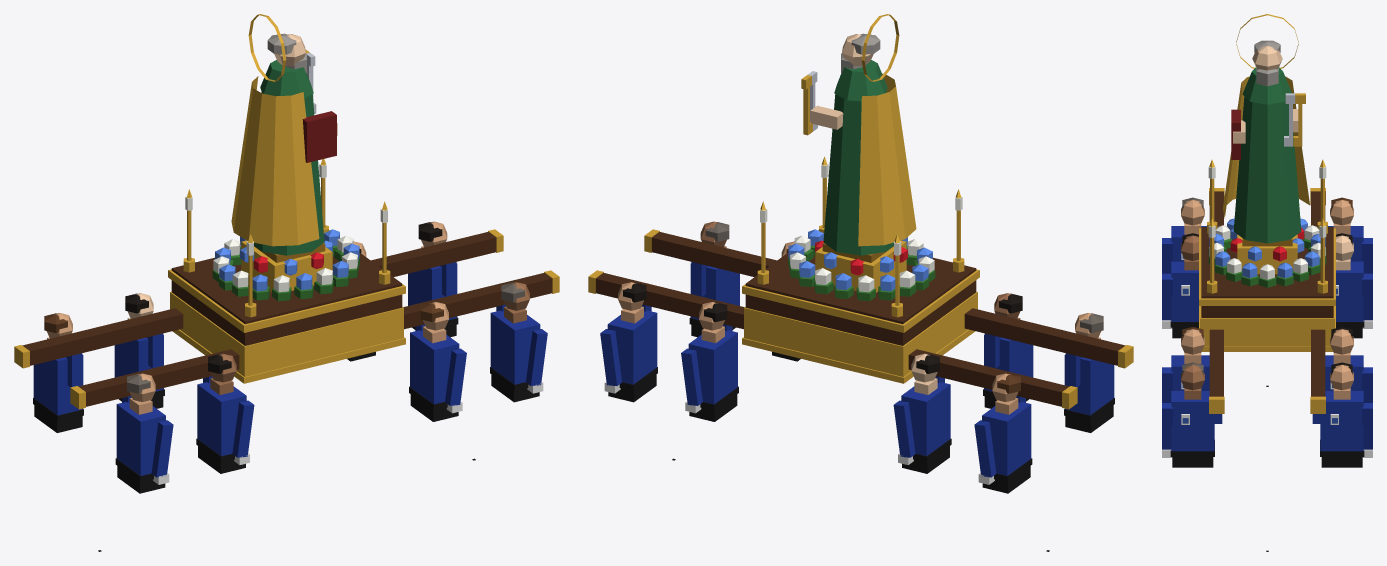
File: anda_san_pedro_body.obj
3 views of the same model, side by side, from view 1: azimuth 30°, elevation 25°; view 2: azimuth 150°, elevation 25°; view 3: azimuth 270°, elevation 25° (orthographic). The views are drawn at different scales.
Parts seen in each view (by area): view 1: anda, driver; view 2: anda, driver; view 3: anda, driver.
Boxes of the visible parts, x1,y1,x2,y2 form: anda: (14,14,559,551); driver: (408,221,458,337); anda: (588,14,1133,551); driver: (600,282,657,402); anda: (1162,14,1372,551); driver: (1312,362,1372,467).
Size of the model in its own units: 4.16 by 4.09 by 1.75.
